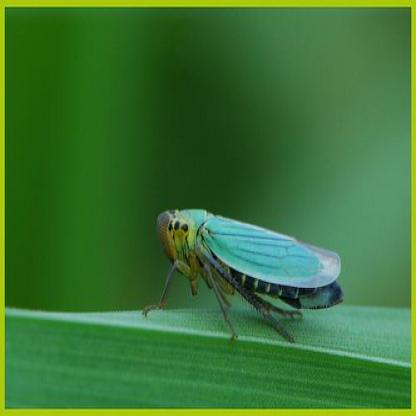Green-Leafhopper: (139, 207, 349, 352)
